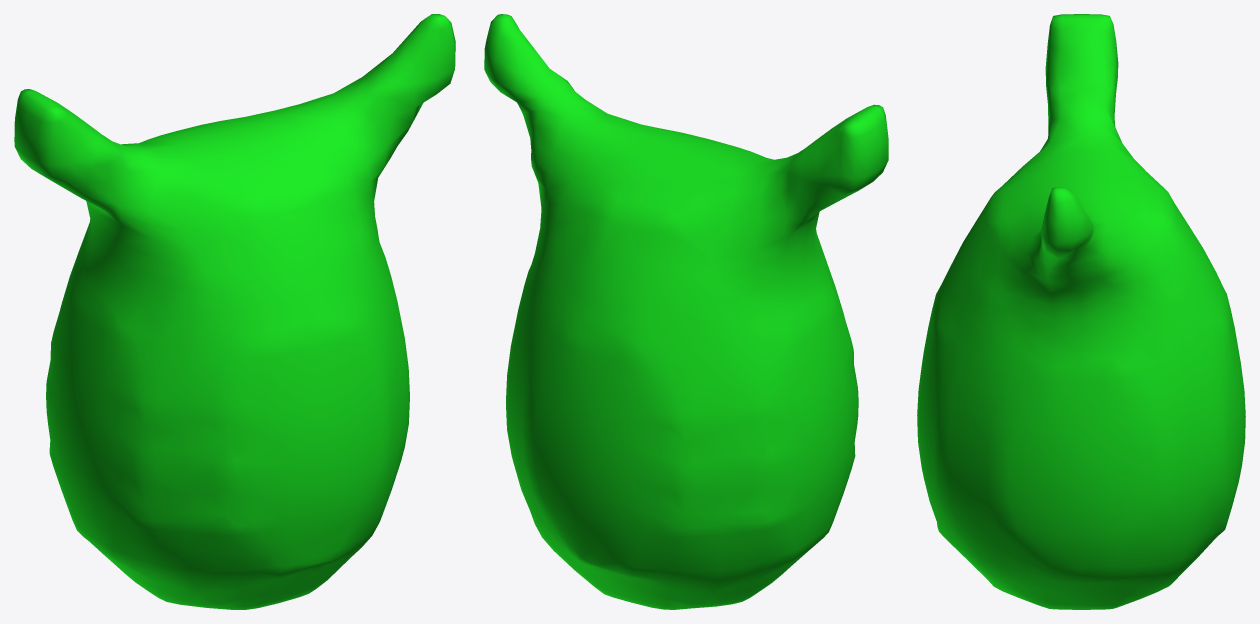
Rendered from Pikyi kg.fbx.
3 renders of one model, left to right at view 1: azimuth 30°, elevation 25°; view 2: azimuth 150°, elevation 25°; view 3: azimuth 270°, elevation 25°, orthographic. The views are drawn at different scales.
Visible parts, largest first — view 1: Pikyi Kg; view 2: Pikyi Kg; view 3: Pikyi Kg.
Boxes of the visible parts, bbox=[...] form: Pikyi Kg: bbox=[14, 14, 455, 609]; Pikyi Kg: bbox=[484, 14, 888, 609]; Pikyi Kg: bbox=[917, 14, 1245, 609].
Bounding box in the file's own units: 47.15 × 57.84 × 34.88.
